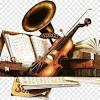Violin: (21, 10, 90, 100)
